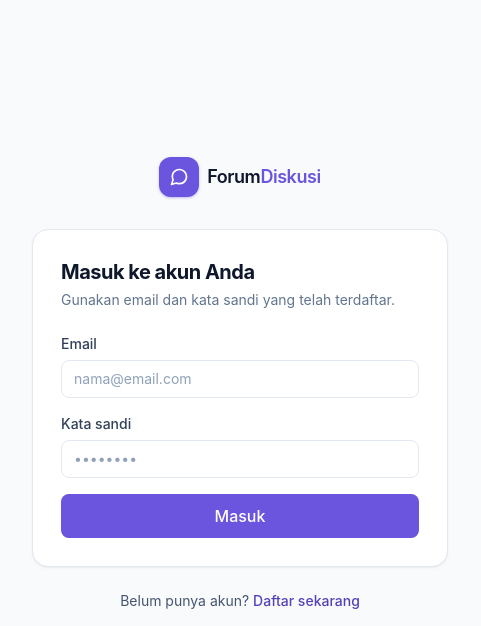
it: Alur login aplikasi › harus menampilkan notifikasi kesalahan ketika kata sandi salah
The image size is (481, 626).
Type "khairil@cypress.test" into the field with id "email".
click(240, 379); type("khairil@cypress.test")  # box [61,360,419,398]
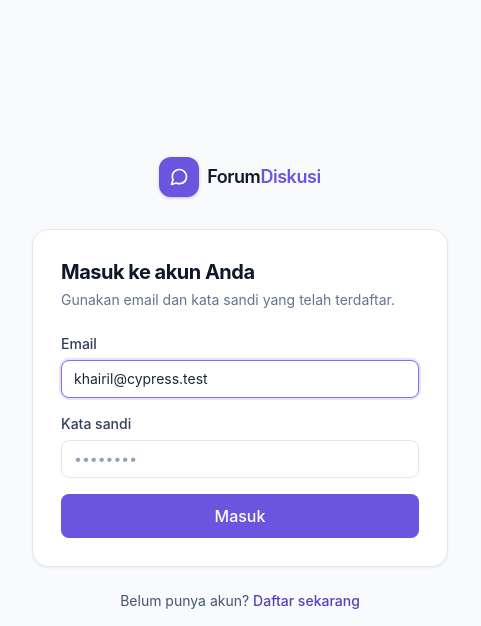
Type "kata-sandi-salah" into the password field labelled "Kata sandi".
click(240, 459); type("kata-sandi-salah")  # box [61,440,419,478]
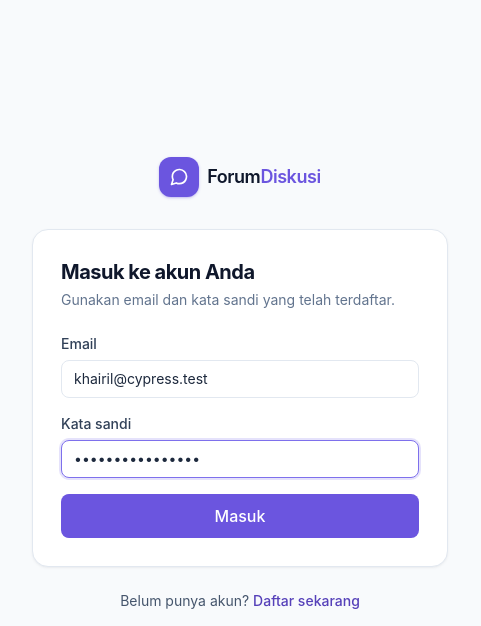
Click the submit button.
click(240, 516)  # box [61,494,419,538]
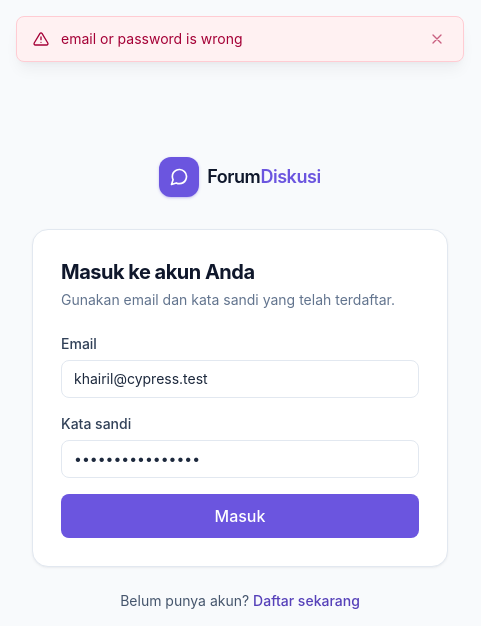
Expected: the message "email or password is wrong" is shown, [16,16,464,62]
